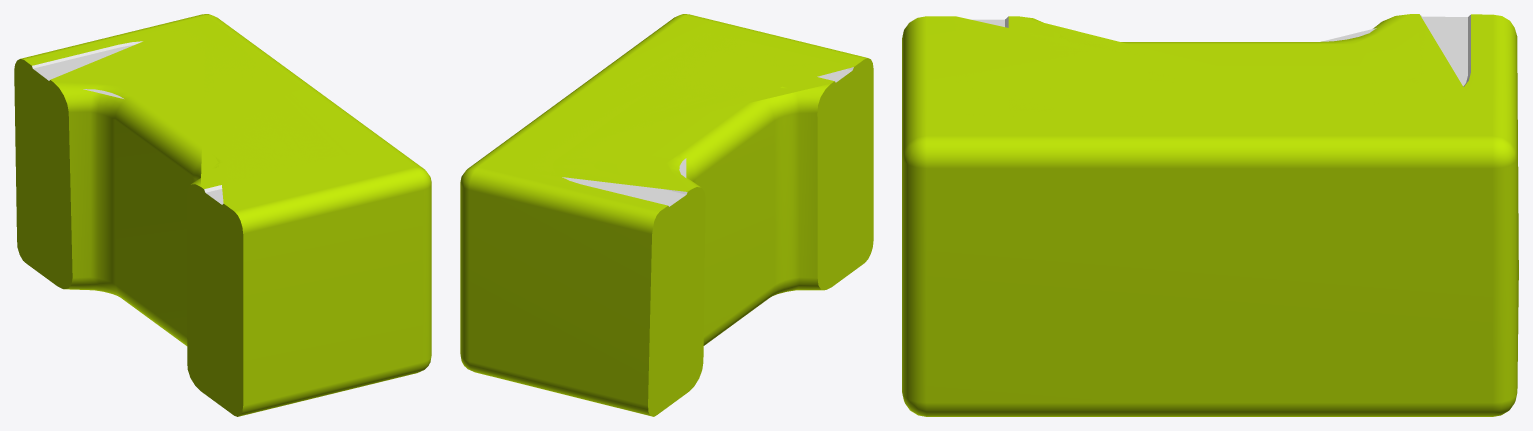
Rendered from loopright_block.fbx.
The picture shows the model from 3 angles, left to right: view 1: azimuth 30°, elevation 25°; view 2: azimuth 150°, elevation 25°; view 3: azimuth 270°, elevation 25°; orthographic projection. The views are drawn at different scales.
Parts seen in each view (by area): view 1: pCube66; view 2: pCube66; view 3: pCube66.
Part boxes in pixels (x1,y1,x2,y2): pCube66: (14, 14, 431, 416); pCube66: (460, 14, 873, 416); pCube66: (902, 14, 1518, 416).
Size of the model in its own units: 0.0102 by 0.01 by 0.02.
